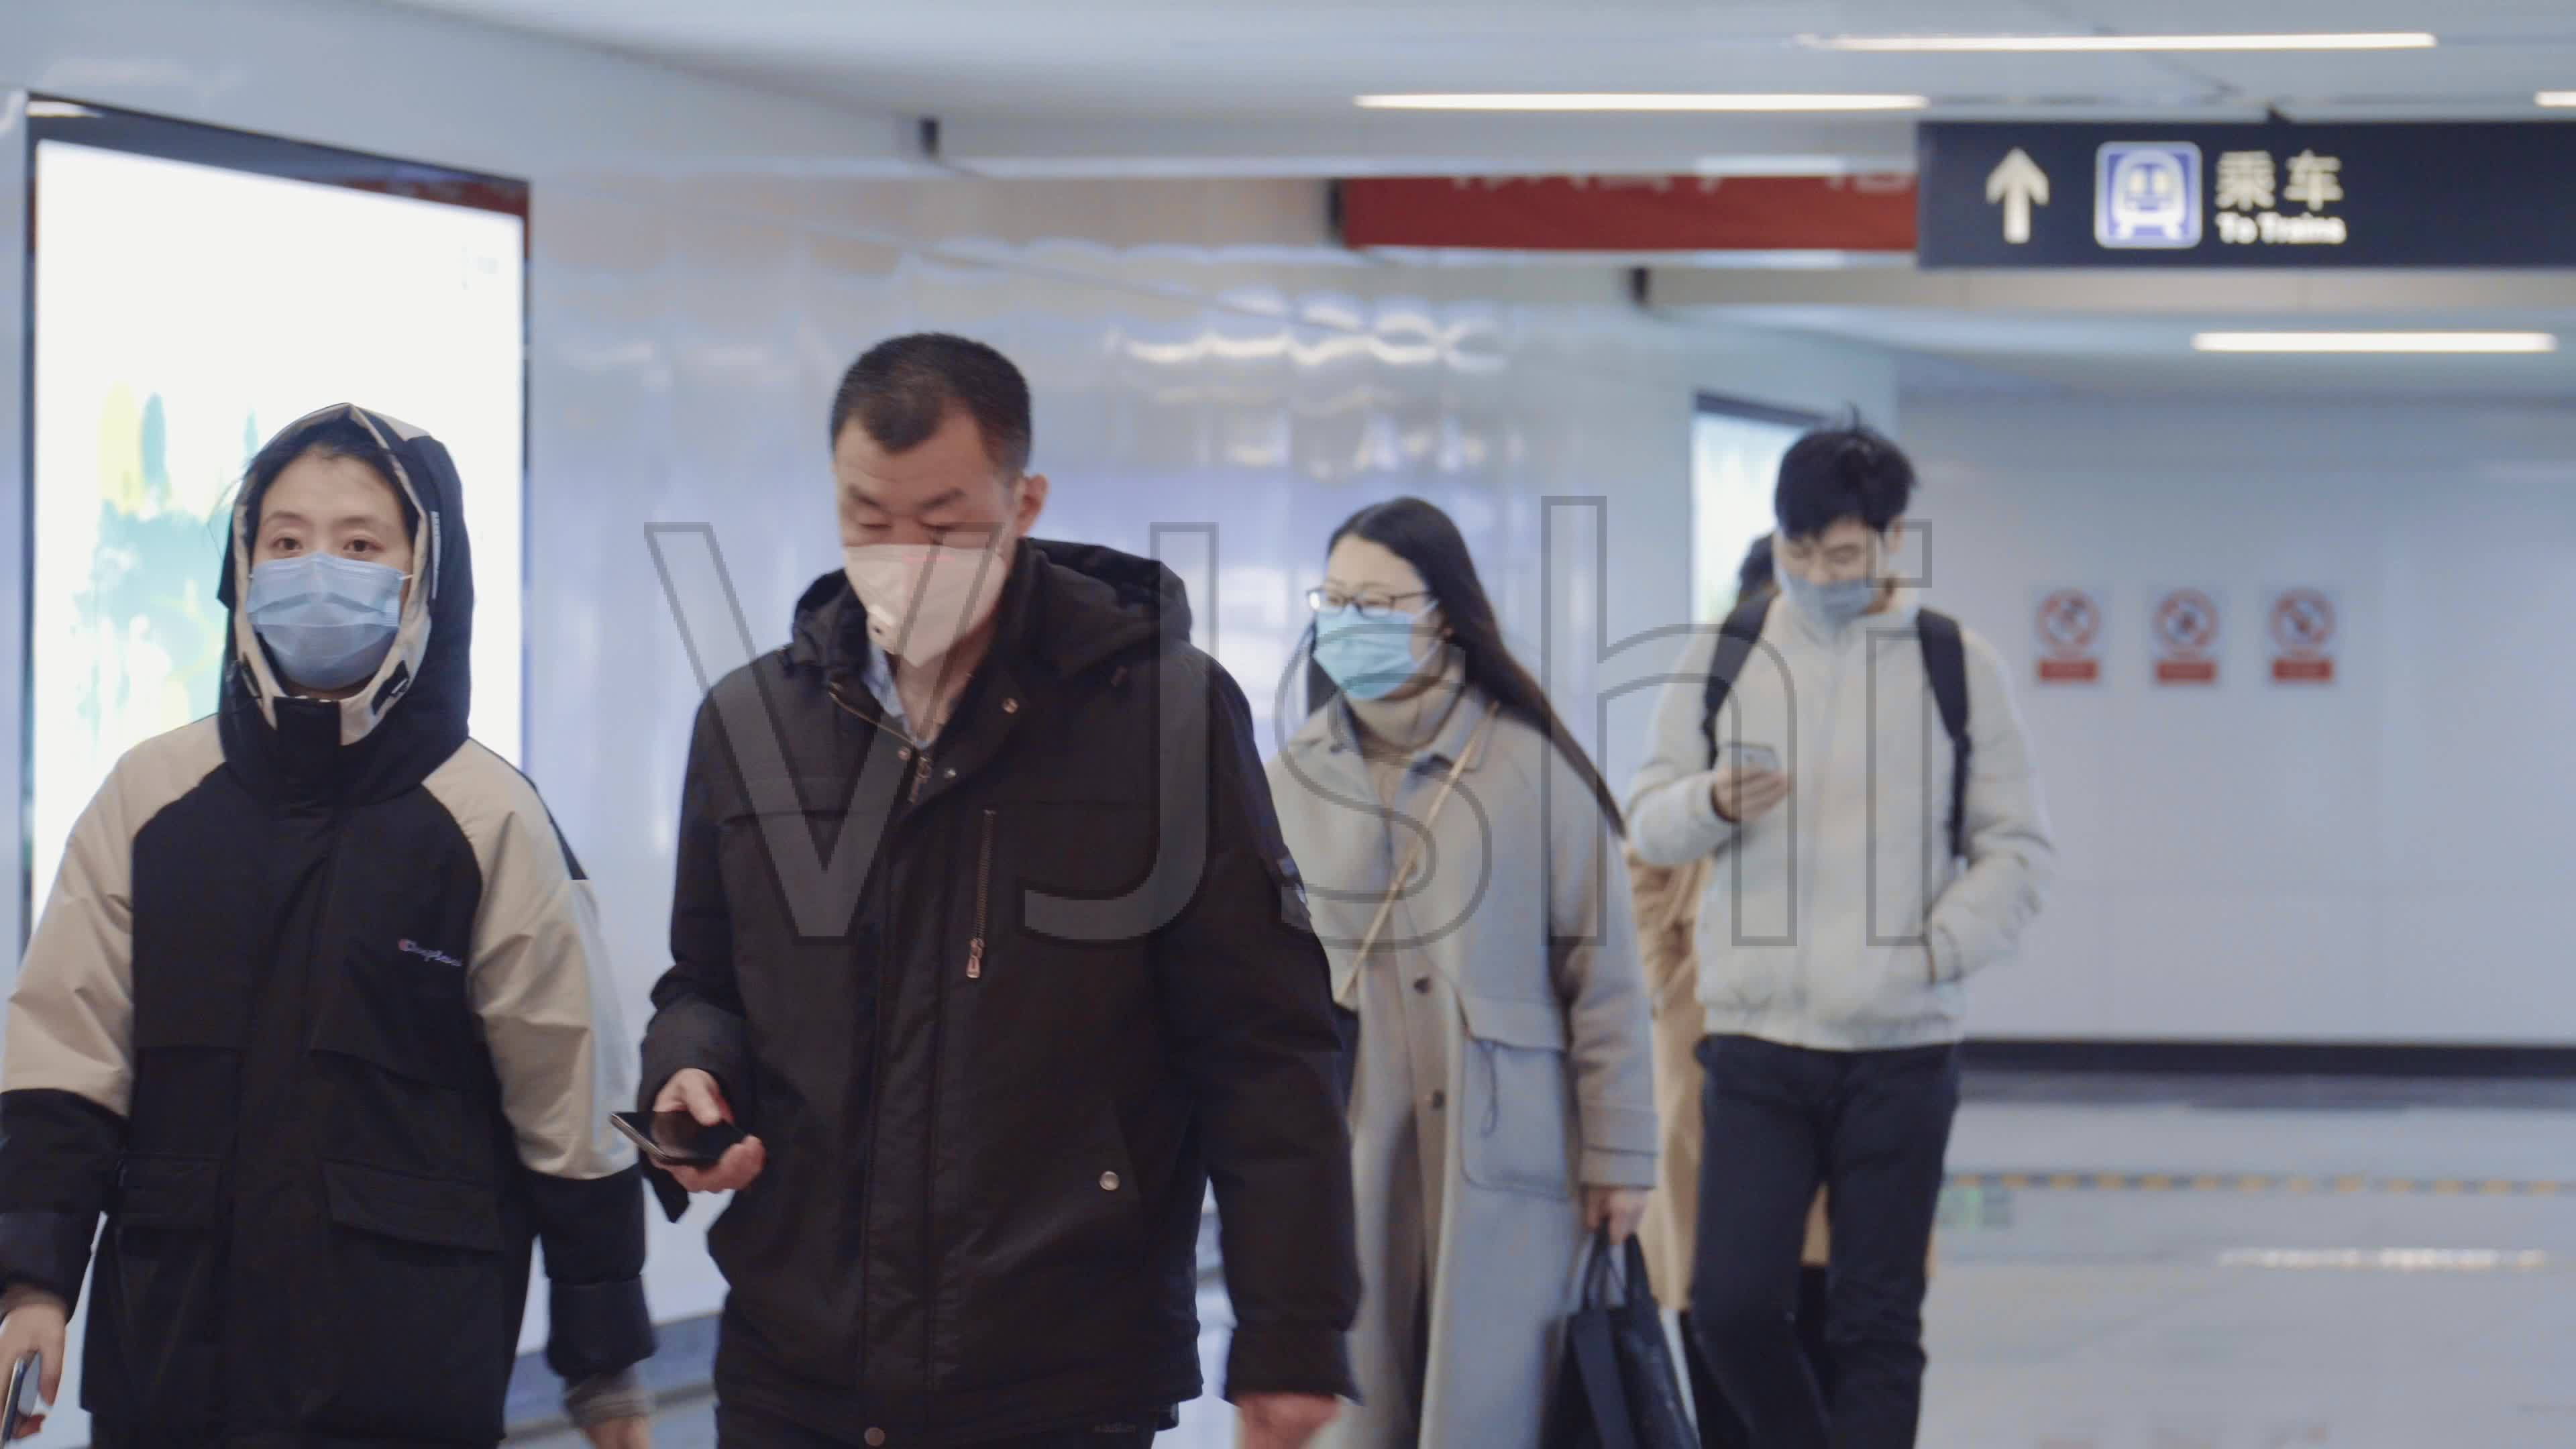mask: (817, 419, 1039, 674), (248, 441, 395, 715), (1300, 541, 1435, 720), (1760, 518, 1907, 635)
